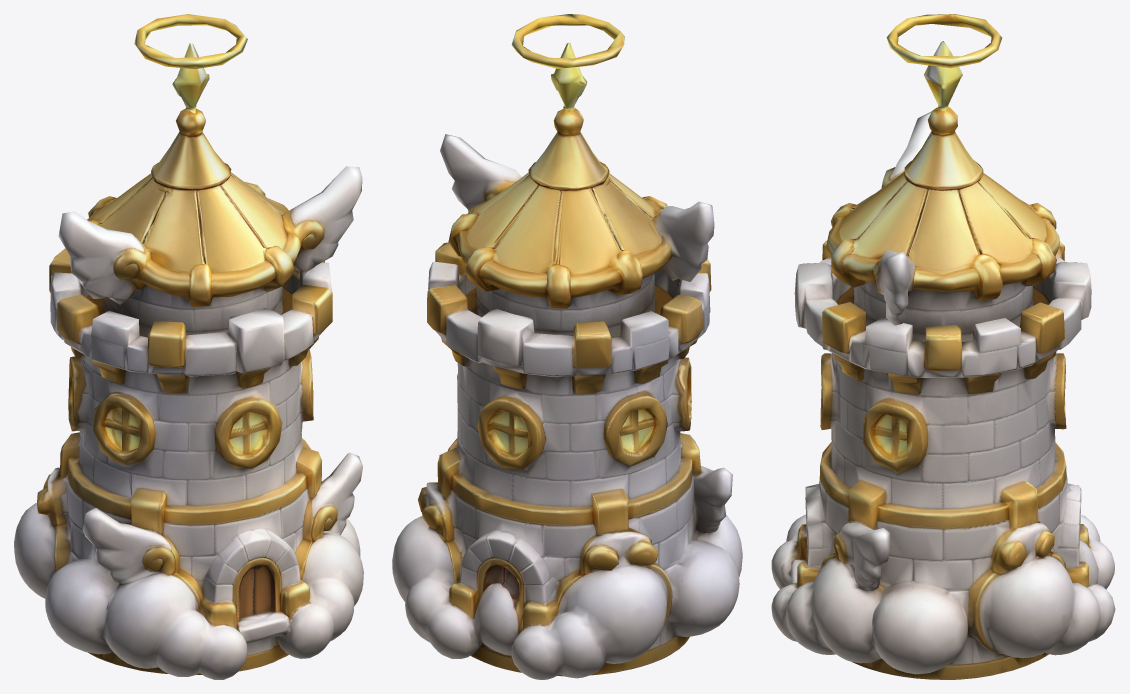
File: Town_Halo_WallTower_fixed.glb
3 views of the same model, side by side, from view 1: azimuth 30°, elevation 25°; view 2: azimuth 150°, elevation 25°; view 3: azimuth 270°, elevation 25° (orthographic).
Visible parts, largest first — view 1: tripo_node_e4bb247f-0c42-4e6b-a8e0-2e3610b03c6a; view 2: tripo_node_e4bb247f-0c42-4e6b-a8e0-2e3610b03c6a; view 3: tripo_node_e4bb247f-0c42-4e6b-a8e0-2e3610b03c6a.
Boxes of the visible parts, <box> form: tripo_node_e4bb247f-0c42-4e6b-a8e0-2e3610b03c6a: <box>14,14,363,679</box>; tripo_node_e4bb247f-0c42-4e6b-a8e0-2e3610b03c6a: <box>392,14,742,679</box>; tripo_node_e4bb247f-0c42-4e6b-a8e0-2e3610b03c6a: <box>771,14,1115,679</box>.
Bounding box in the file's own units: 0.5274 × 0.9803 × 0.5159.
Materials: 1 (1 with a texture image).
